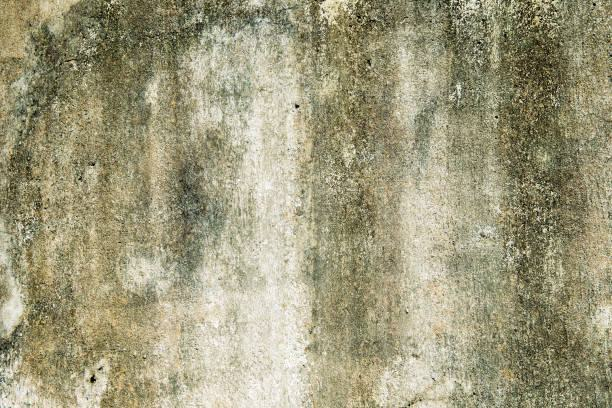Corrosion: (1, 1, 612, 408)
